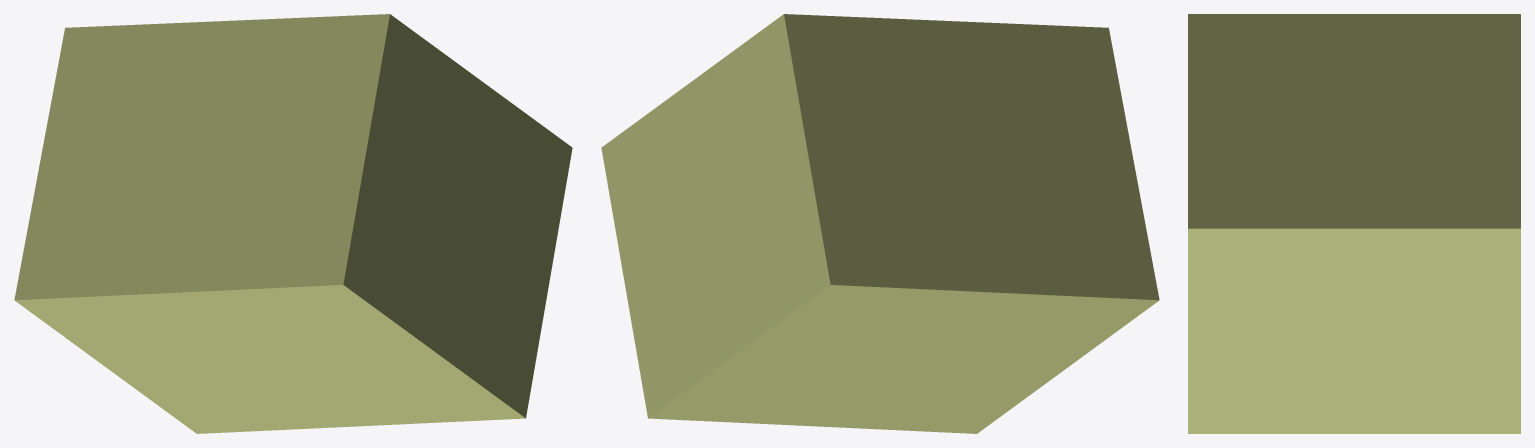
The picture shows the model from 3 angles, left to right: view 1: azimuth 30°, elevation 25°; view 2: azimuth 150°, elevation 25°; view 3: azimuth 270°, elevation 25°; orthographic projection. The views are drawn at different scales.
Visible parts, largest first — view 1: 0_1_2_0_3_3_2_0_1_3_2_1; view 2: 0_1_2_0_3_3_2_0_1_3_2_1; view 3: 0_1_2_0_3_3_2_0_1_3_2_1.
Boxes of the visible parts, x1,y1,x2,y2 form: 0_1_2_0_3_3_2_0_1_3_2_1: (14,14,572,433); 0_1_2_0_3_3_2_0_1_3_2_1: (601,14,1159,433); 0_1_2_0_3_3_2_0_1_3_2_1: (1188,14,1520,433).
Bounding box in the file's own units: 7.13 × 5.89 × 6.
